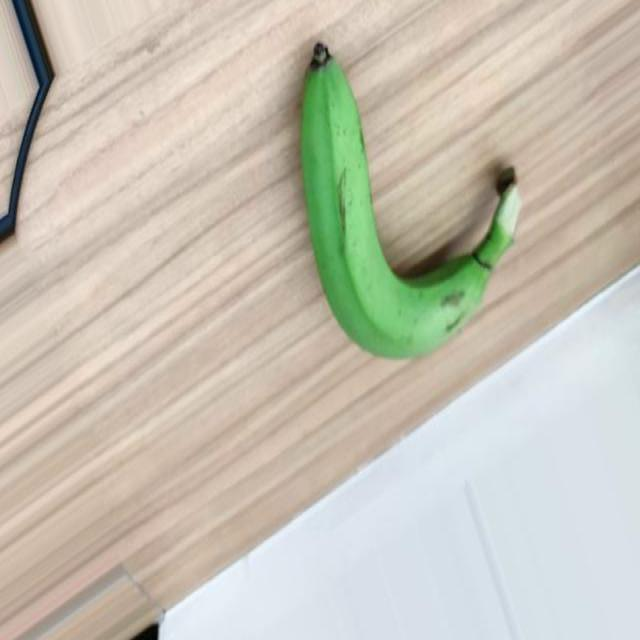Unripe: (297, 40, 523, 361)
